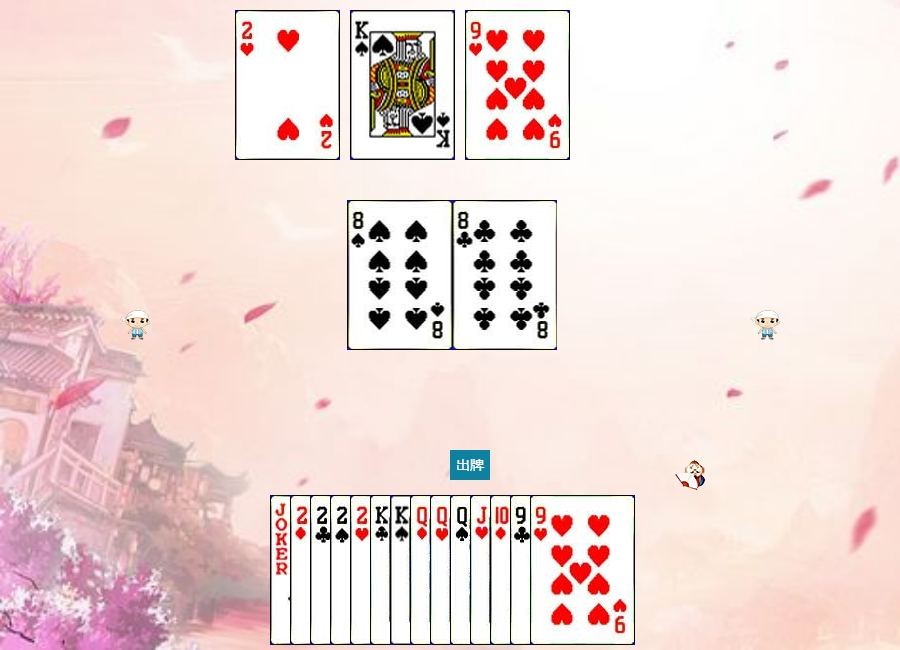10~1: (490, 495, 595, 645)
11~3: (470, 495, 575, 645)
12~1: (410, 495, 515, 645)
12~3: (430, 495, 535, 645)
12~4: (450, 495, 555, 645)
13~2: (370, 495, 475, 645)
13~4: (350, 10, 455, 160), (390, 495, 495, 645)
15~1: (290, 495, 395, 645)
15~2: (310, 495, 415, 645)
15~3: (235, 10, 340, 160), (350, 495, 455, 645)
15~4: (330, 495, 435, 645)
18~4: (270, 495, 375, 645)
8~2: (453, 200, 558, 350)
8~4: (348, 200, 453, 350)
9~2: (510, 495, 615, 645)
9~3: (465, 10, 570, 160), (530, 495, 635, 645)
